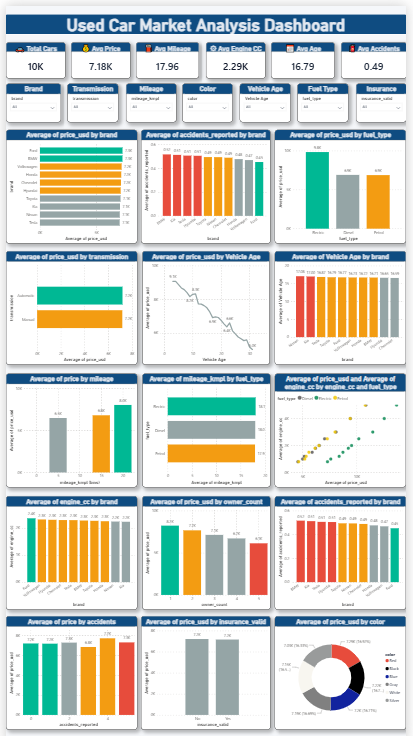

What the dashboard file says about the page in this screenshot:
{"tool":"powerbi","page":{"name":"Page 1","canvas":[1280,2355],"ordinal":0},"visuals":[{"type":"cardVisual","title":"💰 Avg Price","fields":{"Data":["Avg(used_car_price_dataset_extended.price_usd)"]},"box":[208.9,114.3,190,115.7],"z":0},{"type":"cardVisual","title":"⛽ Avg Mileage","fields":{"Data":["Avg(used_car_price_dataset_extended.mileage_kmpl)"]},"box":[417.7,114.3,201.4,115.7],"z":1000},{"type":"cardVisual","title":"📅 Avg Age","fields":{"Data":["Avg(used_car_price_dataset_extended.Vehicle Age)"]},"box":[846.9,114.3,204.3,115.7],"z":2000},{"type":"cardVisual","title":"🧯 Avg Accidents","fields":{"Data":["Avg(used_car_price_dataset_extended.accidents_reported)"]},"box":[1070,114.3,210,115.7],"z":3000},{"type":"clusteredBarChart","fields":{"Category":["used_car_price_dataset_extended.brand"],"Y":["Avg(used_car_price_dataset_extended.price_usd)"]},"box":[0,395.2,420,364],"z":4000},{"type":"clusteredColumnChart","fields":{"Category":["used_car_price_dataset_extended.brand"],"Y":["Avg(used_car_price_dataset_extended.accidents_reported)"]},"box":[433,395.2,414,364],"z":5000},{"type":"clusteredColumnChart","fields":{"Category":["used_car_price_dataset_extended.fuel_type"],"Y":["Avg(used_car_price_dataset_extended.price_usd)"]},"box":[860,395.2,420,364],"z":6000},{"type":"clusteredBarChart","fields":{"Y":["Avg(used_car_price_dataset_extended.price_usd)"],"Category":["used_car_price_dataset_extended.transmission"]},"box":[0,783.6,420,364],"z":7000},{"type":"lineChart","fields":{"Category":["used_car_price_dataset_extended.Vehicle Age"],"Y":["Avg(used_car_price_dataset_extended.price_usd)"]},"box":[436,783.6,408,364],"z":8000},{"type":"clusteredColumnChart","fields":{"Category":["used_car_price_dataset_extended.brand"],"Y":["Avg(used_car_price_dataset_extended.Vehicle Age)"]},"box":[860,783.6,420,364],"z":9000},{"type":"clusteredColumnChart","title":"Average of price by mileage","fields":{"Y":["Avg(used_car_price_dataset_extended.price_usd)"],"Category":["used_car_price_dataset_extended.mileage_kmpl (bins)"]},"box":[0,1174.8,420,364],"z":10000},{"type":"clusteredBarChart","fields":{"Y":["Avg(used_car_price_dataset_extended.mileage_kmpl)"],"Category":["used_car_price_dataset_extended.fuel_type"]},"box":[435,1174.8,410,364],"z":11000},{"type":"scatterChart","fields":{"Series":["used_car_price_dataset_extended.fuel_type"],"Category":["used_car_price_dataset_extended.engine_cc"],"X":["Avg(used_car_price_dataset_extended.price_usd)"],"Y":["Avg(used_car_price_dataset_extended.engine_cc)"]},"box":[860,1174.8,420,364],"z":12000},{"type":"clusteredColumnChart","fields":{"Category":["used_car_price_dataset_extended.brand"],"Y":["Avg(used_car_price_dataset_extended.engine_cc)"]},"box":[0,1566,420,364],"z":13000},{"type":"clusteredColumnChart","fields":{"Category":["used_car_price_dataset_extended.owner_count"],"Y":["Avg(used_car_price_dataset_extended.price_usd)"]},"box":[435,1566,410,364],"z":14000},{"type":"clusteredColumnChart","fields":{"Category":["used_car_price_dataset_extended.brand"],"Y":["Avg(used_car_price_dataset_extended.accidents_reported)"]},"box":[860,1566,420,364],"z":15000},{"type":"clusteredColumnChart","title":"Average of price by accidents","fields":{"Category":["used_car_price_dataset_extended.accidents_reported"],"Y":["Avg(used_car_price_dataset_extended.price_usd)"]},"box":[0,1952.8,420,364],"z":16000},{"type":"clusteredColumnChart","fields":{"Category":["used_car_price_dataset_extended.insurance_valid"],"Y":["Avg(used_car_price_dataset_extended.price_usd)"]},"box":[433,1952.8,414,364],"z":17000},{"type":"donutChart","fields":{"Category":["used_car_price_dataset_extended.color"],"Y":["Avg(used_car_price_dataset_extended.price_usd)"]},"box":[860,1952.8,420,364],"z":18000},{"type":"slicer","title":"Brand","fields":{"Values":["used_car_price_dataset_extended.brand"]},"box":[0,247.1,175.7,124.3],"z":19000},{"type":"slicer","title":"Transmission","fields":{"Values":["used_car_price_dataset_extended.transmission"]},"box":[197.6,247.1,162.9,124.3],"z":20000},{"type":"slicer","title":"Mileage","fields":{"Values":["used_car_price_dataset_extended.mileage_kmpl"]},"box":[382.4,247.1,161.4,124.3],"z":21000},{"type":"slicer","title":"Color","fields":{"Values":["used_car_price_dataset_extended.color"]},"box":[565.7,247.1,161.4,124.3],"z":22000},{"type":"slicer","title":"Vehicle Age","fields":{"Values":["used_car_price_dataset_extended.Vehicle Age"]},"box":[749,247.1,162.9,124.3],"z":23000},{"type":"slicer","title":"Fuel Type","fields":{"Values":["used_car_price_dataset_extended.fuel_type"]},"box":[933.8,247.1,162.9,124.3],"z":24000},{"type":"slicer","title":"Insurance","fields":{"Values":["used_car_price_dataset_extended.insurance_valid"]},"box":[1118.6,247.1,161.4,124.3],"z":25000},{"type":"textbox","title":"Used Car Market Analysis Dashboard","box":[0,27.1,1280,62.9],"z":26000},{"type":"cardVisual","title":"🚗 Total Cars","fields":{"Data":["CountNonNull(used_car_price_dataset_extended.engine_cc)"]},"box":[0,114.3,190,116],"z":27000},{"type":"cardVisual","title":"⚙ Avg Engine CC","fields":{"Data":["Avg(used_car_price_dataset_extended.engine_cc)"]},"box":[638,114.3,190,116],"z":28000}]}

Visuals, with their boxes in screenshot pixels (x1, y1, x2, y2):
"💰 Avg Price" cardVisual: pyautogui.locateOnScreen(70, 51, 129, 86)
"⛽ Avg Mileage" cardVisual: pyautogui.locateOnScreen(134, 51, 197, 86)
"📅 Avg Age" cardVisual: pyautogui.locateOnScreen(267, 51, 330, 86)
"🧯 Avg Accidents" cardVisual: pyautogui.locateOnScreen(336, 51, 400, 86)
clusteredBarChart - used_car_price_dataset_extended.brand x Avg(used_car_price_dataset_extended.price_usd): pyautogui.locateOnScreen(6, 137, 135, 249)
clusteredColumnChart - used_car_price_dataset_extended.brand x Avg(used_car_price_dataset_extended.accidents_reported): pyautogui.locateOnScreen(139, 137, 267, 249)
clusteredColumnChart - used_car_price_dataset_extended.fuel_type x Avg(used_car_price_dataset_extended.price_usd): pyautogui.locateOnScreen(271, 137, 400, 249)
clusteredBarChart - Avg(used_car_price_dataset_extended.price_usd) x used_car_price_dataset_extended.transmission: pyautogui.locateOnScreen(6, 257, 135, 369)
lineChart - used_car_price_dataset_extended.Vehicle Age x Avg(used_car_price_dataset_extended.price_usd): pyautogui.locateOnScreen(140, 257, 266, 369)
clusteredColumnChart - used_car_price_dataset_extended.brand x Avg(used_car_price_dataset_extended.Vehicle Age): pyautogui.locateOnScreen(271, 257, 400, 369)
"Average of price by mileage" clusteredColumnChart: pyautogui.locateOnScreen(6, 377, 135, 490)
clusteredBarChart - Avg(used_car_price_dataset_extended.mileage_kmpl) x used_car_price_dataset_extended.fuel_type: pyautogui.locateOnScreen(140, 377, 266, 490)
scatterChart - used_car_price_dataset_extended.fuel_type x used_car_price_dataset_extended.engine_cc: pyautogui.locateOnScreen(271, 377, 400, 490)
clusteredColumnChart - used_car_price_dataset_extended.brand x Avg(used_car_price_dataset_extended.engine_cc): pyautogui.locateOnScreen(6, 498, 135, 610)
clusteredColumnChart - used_car_price_dataset_extended.owner_count x Avg(used_car_price_dataset_extended.price_usd): pyautogui.locateOnScreen(140, 498, 266, 610)
clusteredColumnChart - used_car_price_dataset_extended.brand x Avg(used_car_price_dataset_extended.accidents_reported): pyautogui.locateOnScreen(271, 498, 400, 610)
"Average of price by accidents" clusteredColumnChart: pyautogui.locateOnScreen(6, 617, 135, 729)
clusteredColumnChart - used_car_price_dataset_extended.insurance_valid x Avg(used_car_price_dataset_extended.price_usd): pyautogui.locateOnScreen(139, 617, 267, 729)
donutChart - used_car_price_dataset_extended.color x Avg(used_car_price_dataset_extended.price_usd): pyautogui.locateOnScreen(271, 617, 400, 729)
"Brand" slicer: pyautogui.locateOnScreen(6, 91, 60, 130)
"Transmission" slicer: pyautogui.locateOnScreen(67, 91, 117, 130)
"Mileage" slicer: pyautogui.locateOnScreen(124, 91, 173, 130)
"Color" slicer: pyautogui.locateOnScreen(180, 91, 230, 130)
"Vehicle Age" slicer: pyautogui.locateOnScreen(237, 91, 287, 130)
"Fuel Type" slicer: pyautogui.locateOnScreen(294, 91, 344, 130)
"Insurance" slicer: pyautogui.locateOnScreen(351, 91, 400, 130)
"Used Car Market Analysis Dashboard" textbox: pyautogui.locateOnScreen(6, 24, 400, 43)
"🚗 Total Cars" cardVisual: pyautogui.locateOnScreen(6, 51, 64, 86)
"⚙ Avg Engine CC" cardVisual: pyautogui.locateOnScreen(202, 51, 261, 86)
